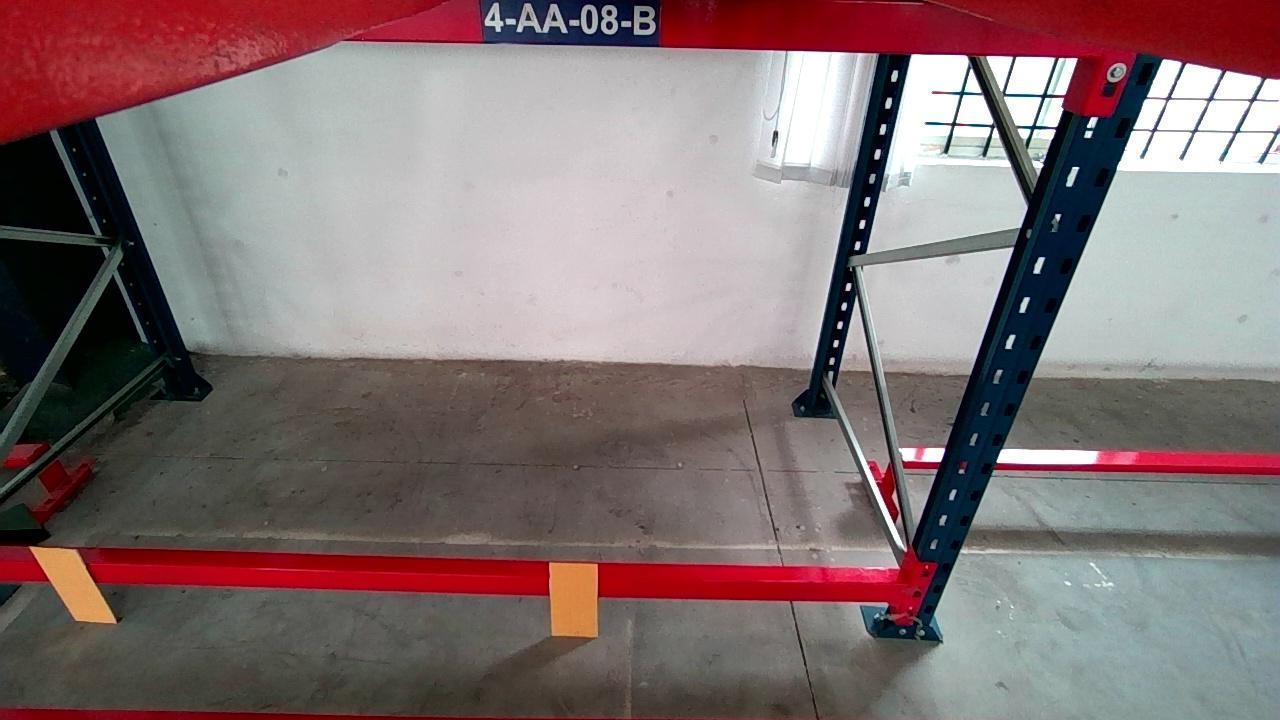h_rack: (6, 554, 909, 599)
orange_strip: (34, 547, 120, 622), (550, 564, 598, 636)
